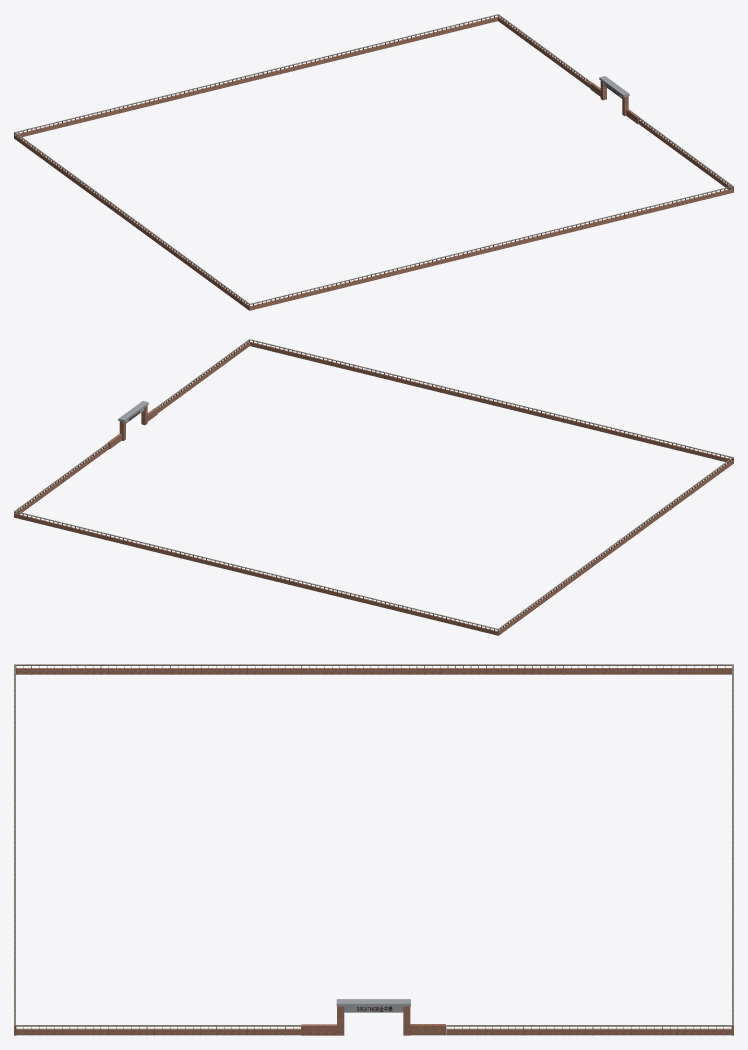
3 renders of one model, top to bottom at view 1: azimuth 30°, elevation 25°; view 2: azimuth 150°, elevation 25°; view 3: azimuth 270°, elevation 25°, orthographic. The views are drawn at different scales.
Visible parts, largest first — view 1: Railing012, Railing016, Railing008, Railing009, Railing015, Railing017, Railing013, Railing004, Railing018, Railing007; view 2: Railing016, Railing017, Railing009, Railing015, Railing012, Railing008, Railing013, Railing018, Railing007, Railing004; view 3: Railing007, Railing004, Railing013, Railing014, Railing018, Box1161.
Part boxes in pixels (left/top/right/bottom): Railing012: left=248, top=264, right=410, bottom=310; Railing016: left=175, top=53, right=337, bottom=99; Railing008: left=571, top=186, right=733, bottom=231; Railing009: left=411, top=225, right=572, bottom=271; Railing015: left=337, top=14, right=498, bottom=59; Railing017: left=14, top=93, right=176, bottom=138; Railing013: left=155, top=235, right=249, bottom=309; Railing004: left=498, top=14, right=591, bottom=88; Railing018: left=14, top=132, right=108, bottom=206; Railing007: left=639, top=117, right=733, bottom=189; Railing016: left=175, top=550, right=337, bottom=596; Railing017: left=337, top=590, right=499, bottom=635; Railing009: left=410, top=378, right=571, bottom=424; Railing015: left=14, top=511, right=175, bottom=556; Railing012: left=571, top=418, right=733, bottom=463; Railing008: left=249, top=339, right=410, bottom=384; Railing013: left=639, top=457, right=733, bottom=531; Railing018: left=497, top=561, right=592, bottom=634; Railing007: left=156, top=339, right=249, bottom=413; Railing004: left=15, top=442, right=109, bottom=514; Railing007: left=15, top=1025, right=301, bottom=1035; Railing004: left=446, top=1025, right=731, bottom=1035; Railing013: left=16, top=664, right=301, bottom=674; Railing014: left=301, top=664, right=586, bottom=674; Railing018: left=448, top=664, right=731, bottom=674; Box1161: left=336, top=999, right=410, bottom=1006.
Size of the model in its own units: 4739 by 200 by 3977.
5 materials, 3 textured.
